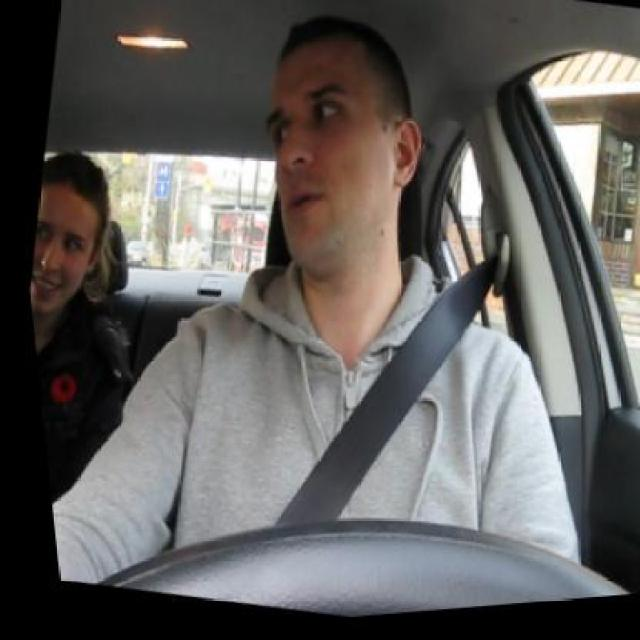Inattentive: (270, 11, 428, 273)
